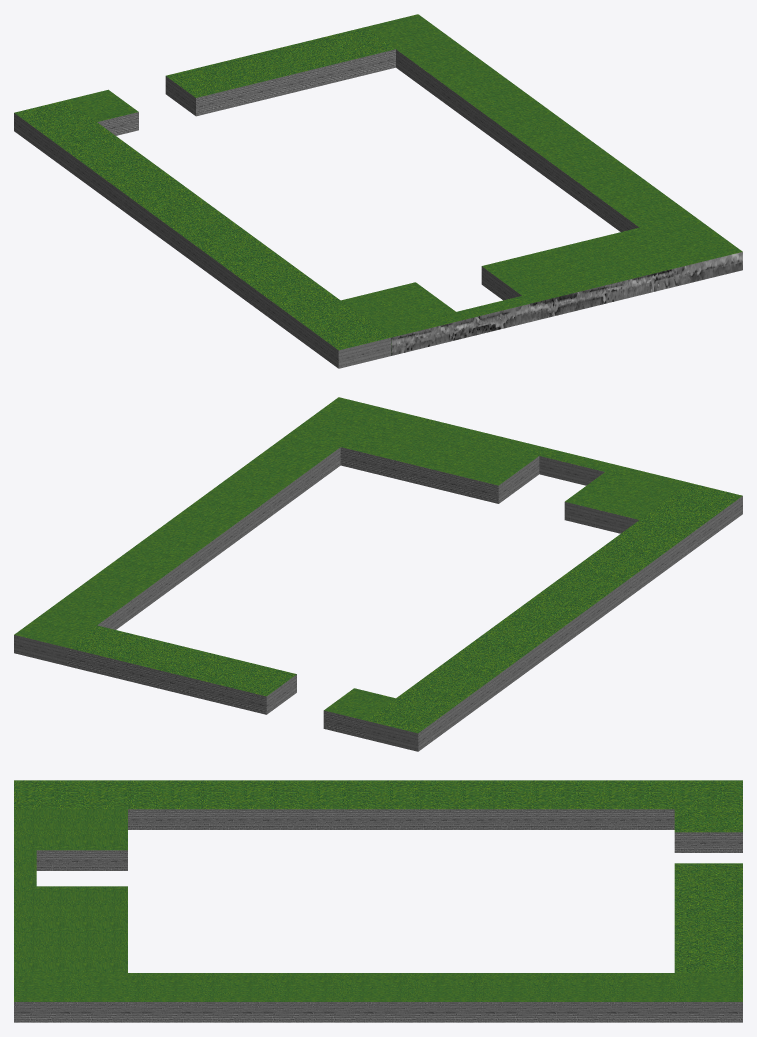
File: ChasePSWall.glb
3 views of the same model, one above another, from view 1: azimuth 30°, elevation 25°; view 2: azimuth 150°, elevation 25°; view 3: azimuth 270°, elevation 25° (orthographic). The views are drawn at different scales.
Parts seen in each view (by area): view 1: ChasePSWall22, ChasePSWall12, ChasePSWall32, ChasePSWall42; view 2: ChasePSWall22, ChasePSWall12, ChasePSWall32, ChasePSWall42; view 3: ChasePSWall12, ChasePSWall22, ChasePSWall32, ChasePSWall42.
Boxes of the visible parts, x1=… form: ChasePSWall22: x1=14, y1=100, x2=391, y2=368; ChasePSWall12: x1=366, y1=14, x2=742, y2=282; ChasePSWall32: x1=341, y1=227, x2=690, y2=355; ChasePSWall42: x1=67, y1=27, x2=395, y2=135; ChasePSWall22: x1=365, y1=483, x2=742, y2=751; ChasePSWall12: x1=14, y1=397, x2=390, y2=665; ChasePSWall32: x1=340, y1=410, x2=689, y2=533; ChasePSWall42: x1=66, y1=625, x2=395, y2=738; ChasePSWall12: x1=14, y1=973, x2=742, y2=1022; ChasePSWall22: x1=14, y1=780, x2=742, y2=829; ChasePSWall32: x1=14, y1=809, x2=127, y2=972; ChasePSWall42: x1=674, y1=809, x2=742, y2=972.
Bounding box in the file's own units: 23 × 1 × 32.
2 materials, 2 textured.
